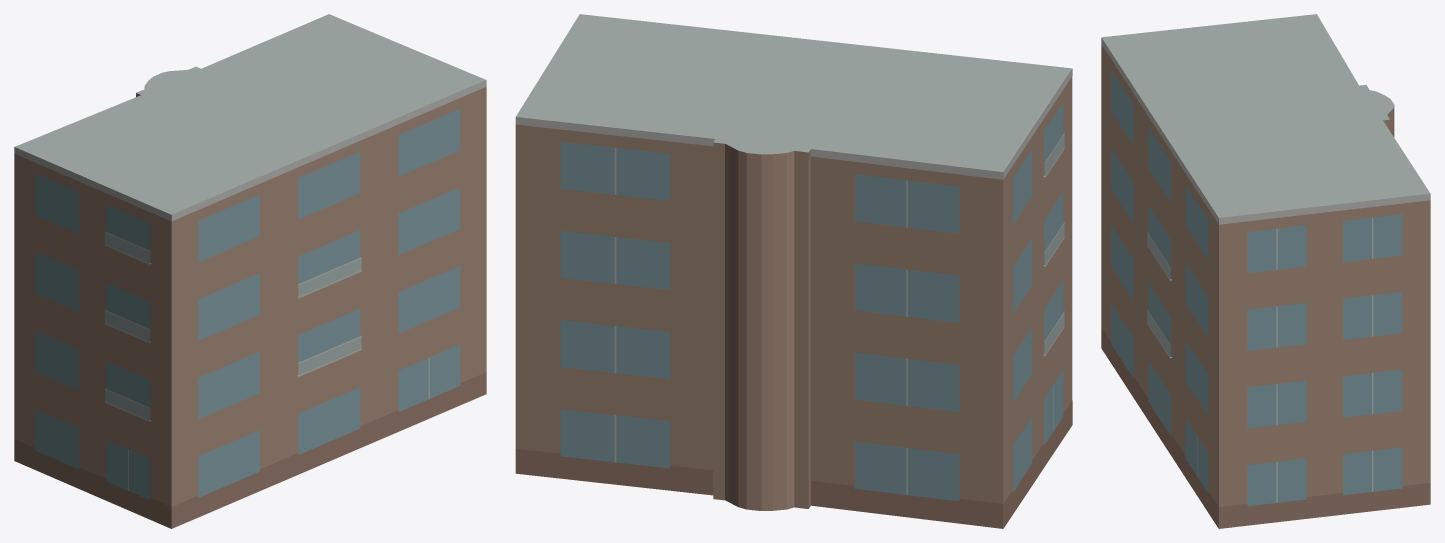
File: survey-upis-32941790.glb
3 views of the same model, side by side, from view 1: azimuth 30°, elevation 25°; view 2: azimuth 150°, elevation 25°; view 3: azimuth 270°, elevation 25° (orthographic). The views are drawn at different scales.
Parts seen in each view (by area): view 1: survey-upis-32941790.tmp; view 2: survey-upis-32941790.tmp; view 3: survey-upis-32941790.tmp.
Boxes of the visible parts, left/top/right/bottom form: survey-upis-32941790.tmp: left=14, top=14, right=486, bottom=528; survey-upis-32941790.tmp: left=515, top=14, right=1072, bottom=528; survey-upis-32941790.tmp: left=1101, top=14, right=1430, bottom=528.
Bounding box in the file's own units: 16.2 × 11.5 × 11.05.
